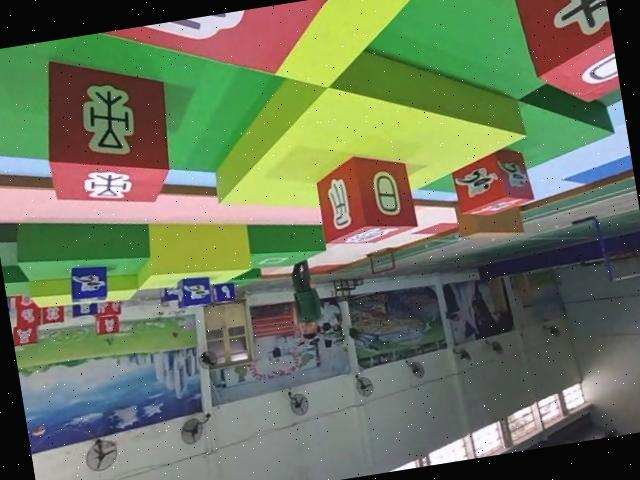R1: (447, 144, 536, 221)
R2 Fake: (502, 0, 622, 115), (311, 148, 419, 251)
R2 Real: (31, 45, 183, 218)
